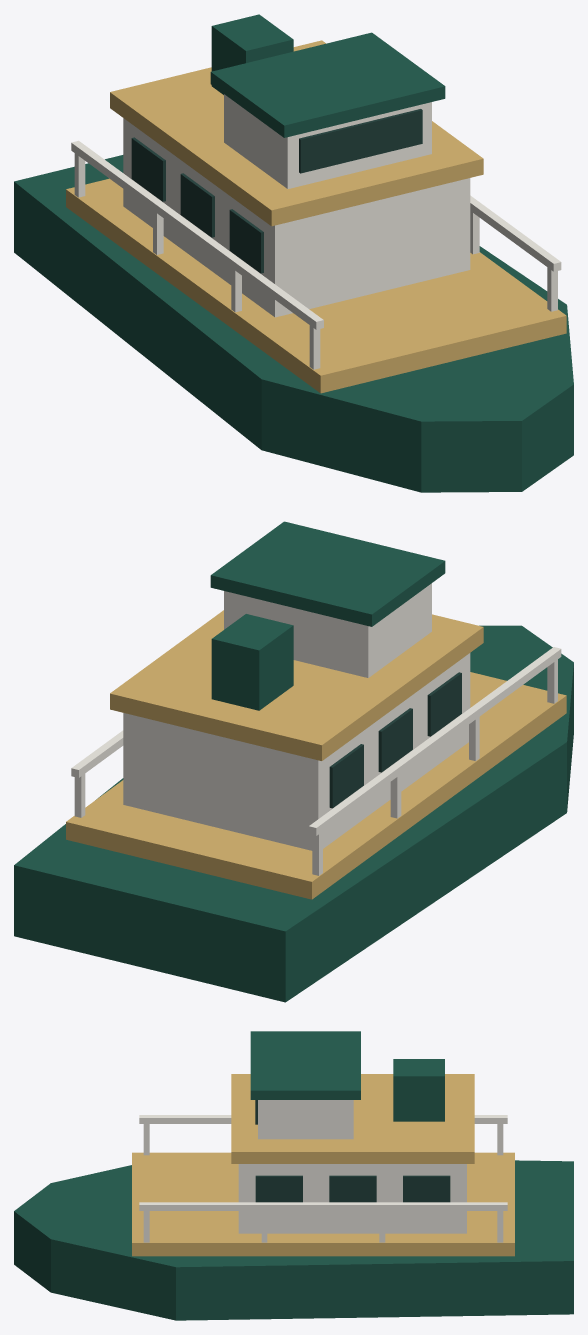
File: kkl-ferry.glb
3 views of the same model, one above another, from view 1: azimuth 30°, elevation 25°; view 2: azimuth 150°, elevation 25°; view 3: azimuth 270°, elevation 25° (orthographic). The views are drawn at different scales.
Visible parts, largest first — view 1: hull, deck, cabin, cabin_roof, bridge_roof, bridge, handrail (×2), cabin_window (×3), bridge_glass, funnel; view 2: hull, cabin, deck, cabin_roof, bridge_roof, bridge, funnel, handrail (×2), cabin_window (×3); view 3: hull, deck, cabin_roof, cabin, bridge_roof, handrail (×2), cabin_window (×3), bridge, funnel.
Part boxes in pixels (bbox=[...]): hull: bbox=[14, 155, 573, 492]; deck: bbox=[66, 178, 566, 393]; cabin: bbox=[123, 118, 470, 317]; cabin_roof: bbox=[110, 40, 483, 226]; bridge_roof: bbox=[210, 32, 445, 137]; bridge: bbox=[224, 94, 431, 188]; handrail (×2): bbox=[71, 140, 561, 329]; cabin_window (×3): bbox=[131, 137, 263, 273]; bridge_glass: bbox=[299, 109, 422, 173]; funnel: bbox=[211, 14, 293, 94]; hull: bbox=[14, 625, 573, 1002]; cabin: bbox=[123, 653, 470, 850]; deck: bbox=[66, 672, 566, 899]; cabin_roof: bbox=[110, 610, 483, 760]; bridge_roof: bbox=[210, 521, 445, 626]; bridge: bbox=[224, 583, 431, 677]; funnel: bbox=[211, 614, 293, 710]; handrail (×2): bbox=[71, 647, 561, 835]; cabin_window (×3): bbox=[329, 672, 461, 808]; hull: bbox=[14, 1160, 573, 1320]; deck: bbox=[132, 1152, 514, 1256]; cabin_roof: bbox=[231, 1074, 474, 1163]; cabin: bbox=[238, 1164, 466, 1233]; bridge_roof: bbox=[250, 1031, 360, 1099]; handrail (×2): bbox=[139, 1115, 507, 1210]; cabin_window (×3): bbox=[255, 1175, 450, 1202]; bridge: bbox=[258, 1100, 353, 1139]; funnel: bbox=[393, 1059, 444, 1121].
Size of the model in its own units: 1.8 by 1.53 by 3.8.
